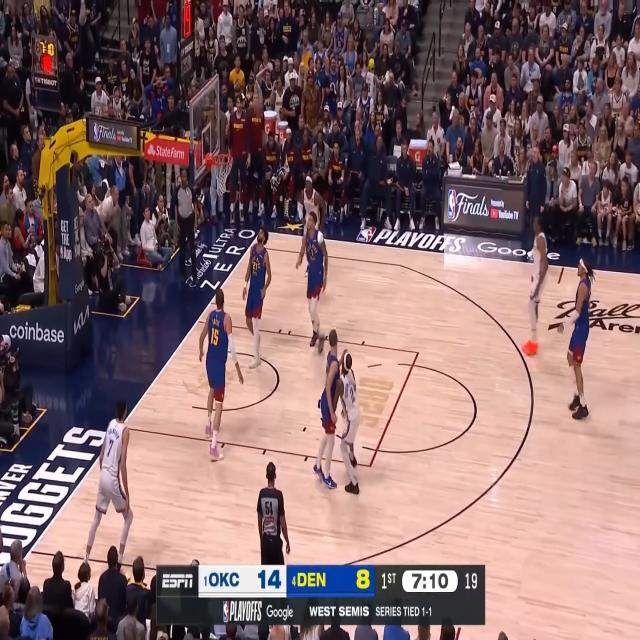ball: (253, 99, 264, 118)
number: (106, 436, 115, 459), (210, 324, 219, 346), (349, 385, 354, 404), (253, 261, 258, 271), (311, 248, 314, 258)
player: (83, 397, 134, 577), (199, 288, 244, 462), (557, 255, 596, 419), (314, 326, 346, 488), (296, 208, 328, 354), (242, 226, 272, 369), (333, 349, 361, 494), (521, 210, 548, 355), (297, 174, 326, 279)
referee: (258, 461, 292, 565), (174, 167, 198, 286)
rim: (212, 151, 234, 167)
